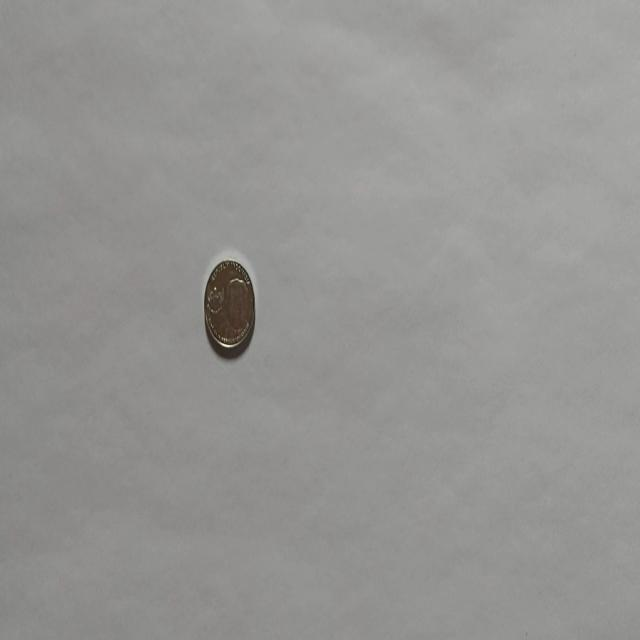seratus rupiah: (202, 257, 255, 353)
